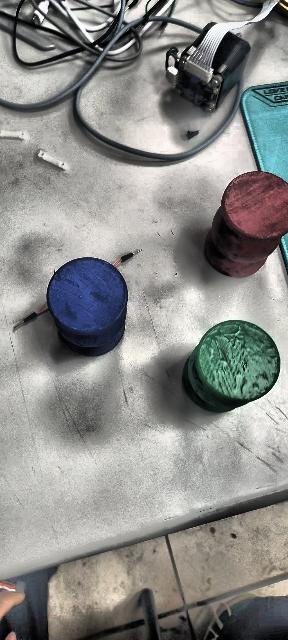blue: (46, 256, 128, 356)
green: (182, 319, 280, 413)
red: (202, 172, 288, 279)
